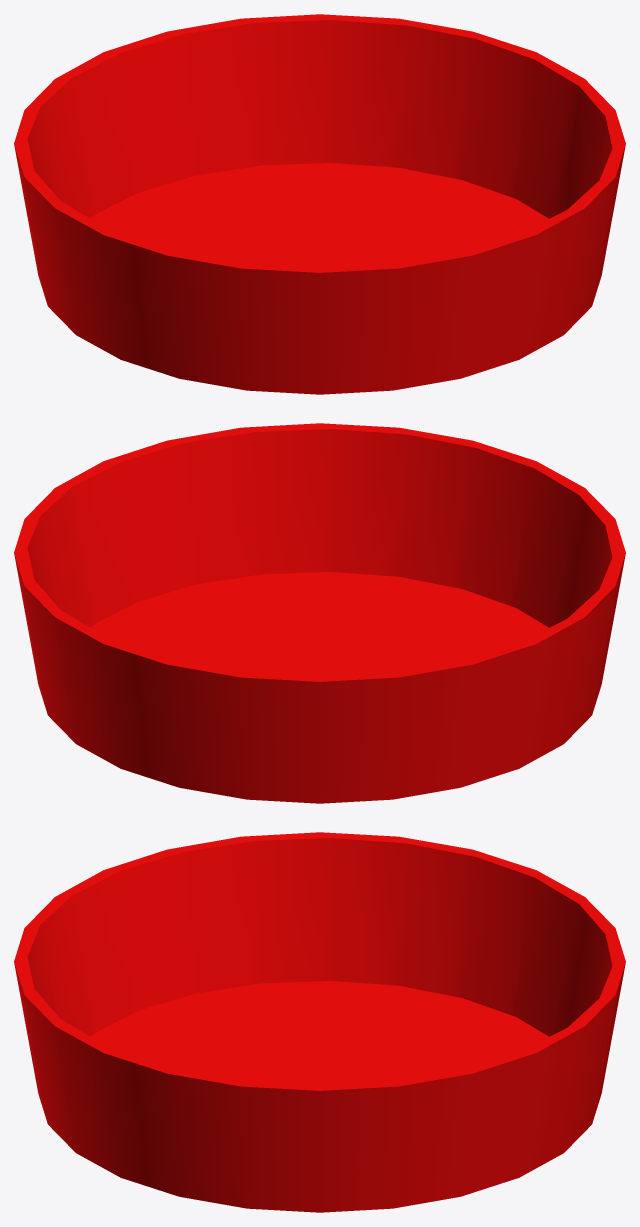
The model's file is Red_bucket.dae.
3 renders of one model, top to bottom at view 1: azimuth 30°, elevation 25°; view 2: azimuth 150°, elevation 25°; view 3: azimuth 270°, elevation 25°, orthographic.
Parts seen in each view (by area): view 1: SketchUp (×2); view 2: SketchUp (×2); view 3: SketchUp (×2).
Part boxes in pixels (bbox=[...]): SketchUp (×2): bbox=[14, 14, 625, 394]; SketchUp (×2): bbox=[14, 423, 625, 803]; SketchUp (×2): bbox=[14, 832, 625, 1212].
Size of the model in its own units: 49.61 by 49.61 by 11.81.
